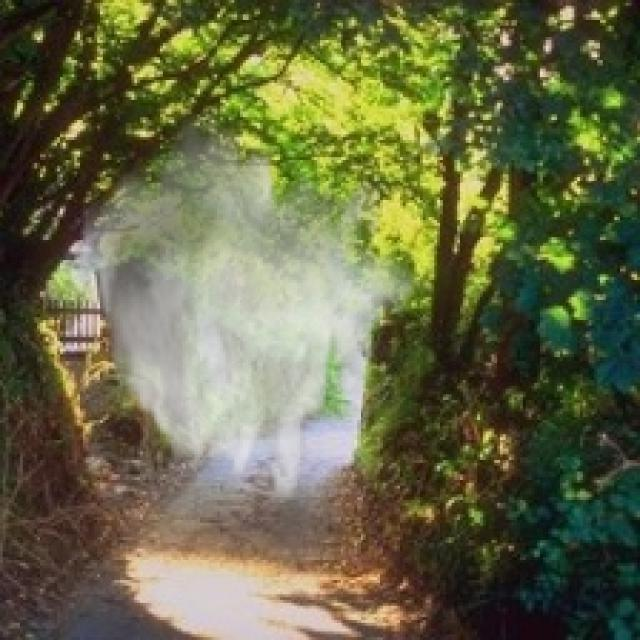Smoke: (72, 106, 417, 508)
